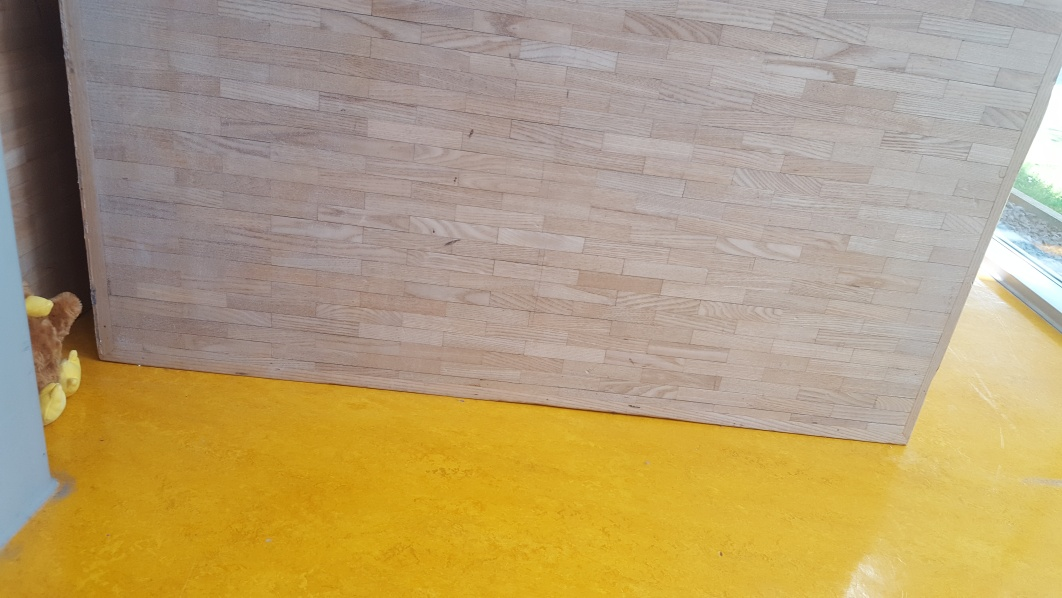chicken: (22, 287, 82, 430)
